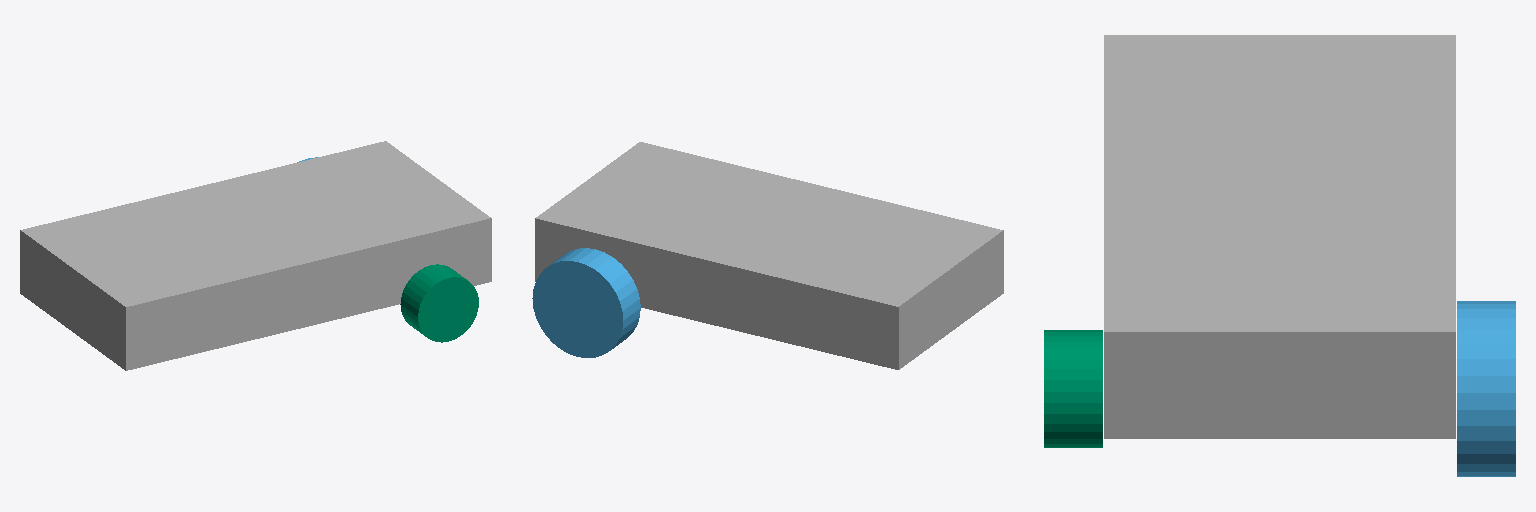
The robot description file, URDF, robot "tortoisebot":
<?xml version="1.0"?>
<robot name="tortoisebot">
	<link name="base_link">
		<visual>
			<geometry>
				<box size="0.6 0.3 0.1"/>
			</geometry>
		<material name="silver">
			<color rgba="0.75 0.75 0.75 1"/>
		</material>
		</visual>
	</link>
	<!-- right wheel link-->
 <link name="right_wheel">
    <visual>
      <geometry>
        <cylinder length="0.05" radius="0.075"/>
      </geometry>
      <material name="black"/>
    </visual>
    <collision>
      <geometry>
        <cylinder length="0.05" radius="0.035"/>
      </geometry>
    </collision>
    <inertial>
      <mass value="0.1"/>
      <inertia ixx="5.1458e-5" iyy="5.1458e-5" izz="6.125e-5" ixy="0" ixz="0" iyz="0"/>
    </inertial>
  </link>
  <!-- left wheel link-->
  <link name="left_wheel">
    <visual>
      <geometry>
        <cylinder length="0.05" radius="0.05"/>
      </geometry>
      <material name="black"/>
    </visual>
    <collision>
      <geometry>
        <cylinder length="0.05" radius="0.035"/>
      </geometry>
    </collision>
    <inertial>
      <mass value="0.1"/>
      <inertia ixx="5.1458e-5" iyy="5.1458e-5" izz="6.125e-5" ixy="0" ixz="0" iyz="0"/>
    </inertial>
  </link>
  <!-- caster support-->
  <link name="caster_support">
    <visual>
      <material name="black"/>
    </visual>
    <visual>
      <geometry>
        <sphere radius="0.06"/>
      </geometry>
    </visual>
    <collision>
      <geometry>
        <cylinder length="0.05" radius="0.035"/>
      </geometry>1
    </collision>
    <inertial>
      <mass value="0.1"/>
      <inertia ixx="5.1458e-5" iyy="5.1458e-5" izz="6.125e-5" ixy="0" ixz="0" iyz="0"/>
    </inertial>
  </link>
  <!-- right wheel joint-->
  <joint name="right_wheel_joint" type="continuous">
    <axis xyz="0 0 1"/>
    <parent link="base_link"/>
    <child link="right_wheel"/>
    <origin rpy="-1.5708 0 0" xyz="0.2 0.176 -0.05"/>
  </joint>
  <!-- left wheel joint-->
  <joint name="left_wheel_joint" type="continuous">
    <axis xyz="0 0 1"/>
    <parent link="base_link"/>
    <child link="left_wheel"/>
    <origin rpy="-1.5708 0 0" xyz="0.2 -0.176 -0.05"/>
  </joint>
  <!-- caster support joint-->
  <joint name="caster_wheel_joint" type="continuous">
    <axis xyz="0 0 1"/>
    <parent link="base_link"/>
    <child link="caster_support"/>
    <origin rpy="0 0 0" xyz="-0.2 0.0 -0.05"/>
  </joint>

</robot>

--- Facts derived from the render (not from the file) ---
Views: 3 orthographic renders of the robot side by side, from view 1: azimuth 30°, elevation 25°; view 2: azimuth 150°, elevation 25°; view 3: azimuth 270°, elevation 25°.
Model tortoisebot with 4 links and 3 joints (3 continuous), rooted at base_link, posed all joints at 0.
Visible links, largest first — view 1: base_link, left_wheel; view 2: base_link, right_wheel; view 3: base_link, right_wheel, left_wheel.
Boxes of the visible links, <box> form: base_link: <box>20,141,491,370</box>; left_wheel: <box>400,264,478,342</box>; base_link: <box>535,142,1003,369</box>; right_wheel: <box>532,248,640,357</box>; base_link: <box>1104,35,1455,438</box>; right_wheel: <box>1457,301,1515,476</box>; left_wheel: <box>1044,330,1102,447</box>.
Size in the robot's own frame: 0.6 by 0.402 by 0.175 metres.
Geometry: primitives only (box / cylinder / sphere), no mesh files.